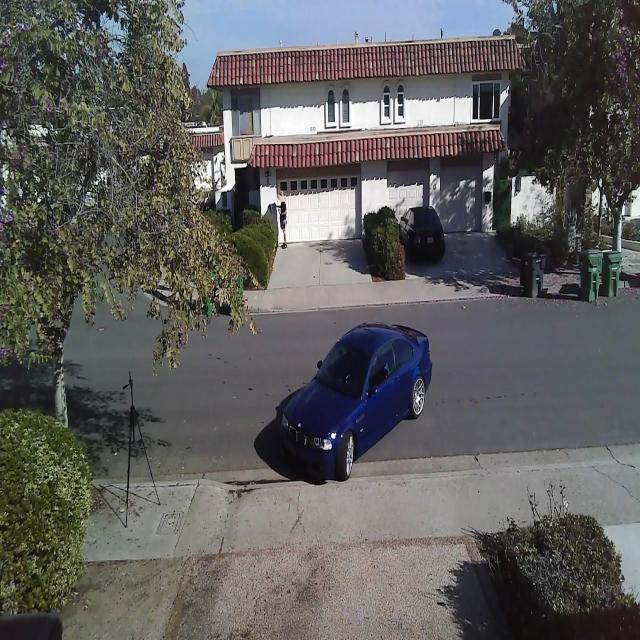Carbeetle: (269, 314, 449, 484)
Civilian: (399, 205, 445, 263)
